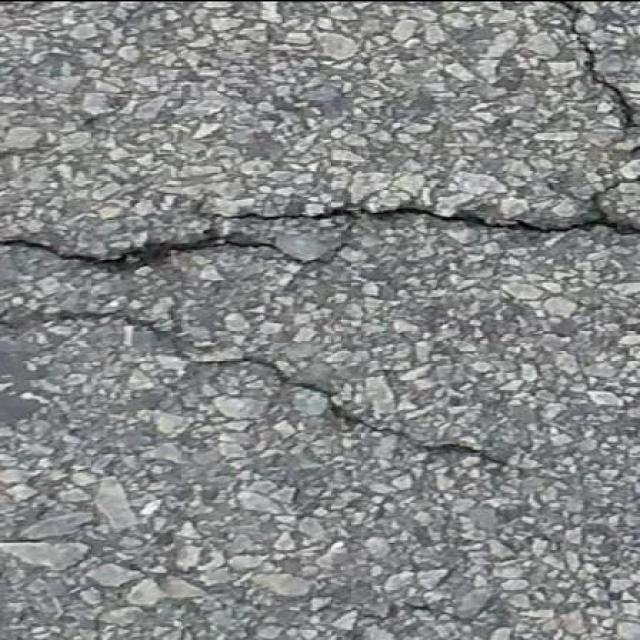Crack: (0, 174, 639, 271), (44, 311, 414, 440), (553, 0, 639, 131), (416, 442, 499, 464), (0, 321, 19, 328)
